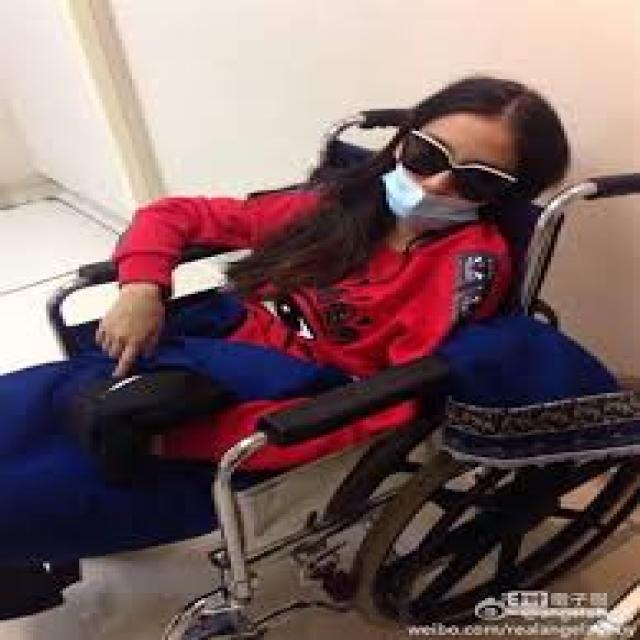wheelchairs: (26, 102, 637, 638)
